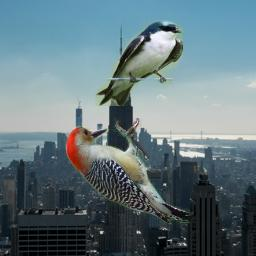Swallow: (95, 20, 183, 106)
Woodpecker: (64, 118, 194, 226)
